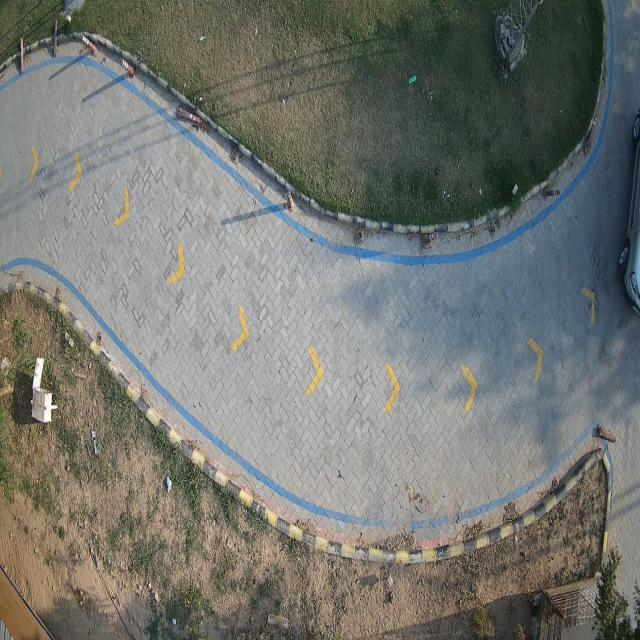car: (619, 111, 640, 312)
